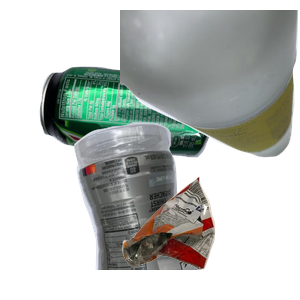glass: (120, 10, 300, 160)
metal: (37, 64, 245, 214)
plastic: (71, 120, 265, 300)
trash: (120, 174, 300, 300)
